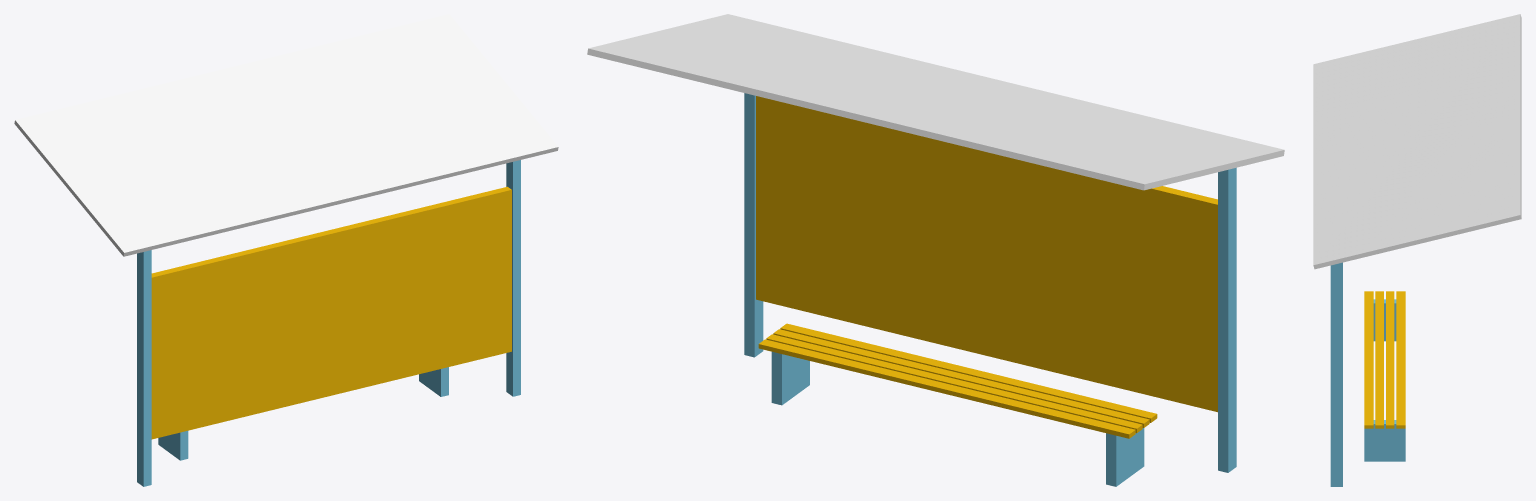
File: bus stop_1.fbx
3 views of the same model, side by side, from view 1: azimuth 30°, elevation 25°; view 2: azimuth 150°, elevation 25°; view 3: azimuth 270°, elevation 25° (orthographic). The views are drawn at different scales.
Visible parts, largest first — view 1: bus_stop_1; view 2: bus_stop_1; view 3: bus_stop_1.
Part boxes in pixels (<box>): bus_stop_1: <box>14,14,558,486</box>; bus_stop_1: <box>587,14,1284,486</box>; bus_stop_1: <box>1313,14,1521,486</box>.
Bounding box in the file's own units: 433 × 286 × 190.
1 material, 1 textured.
